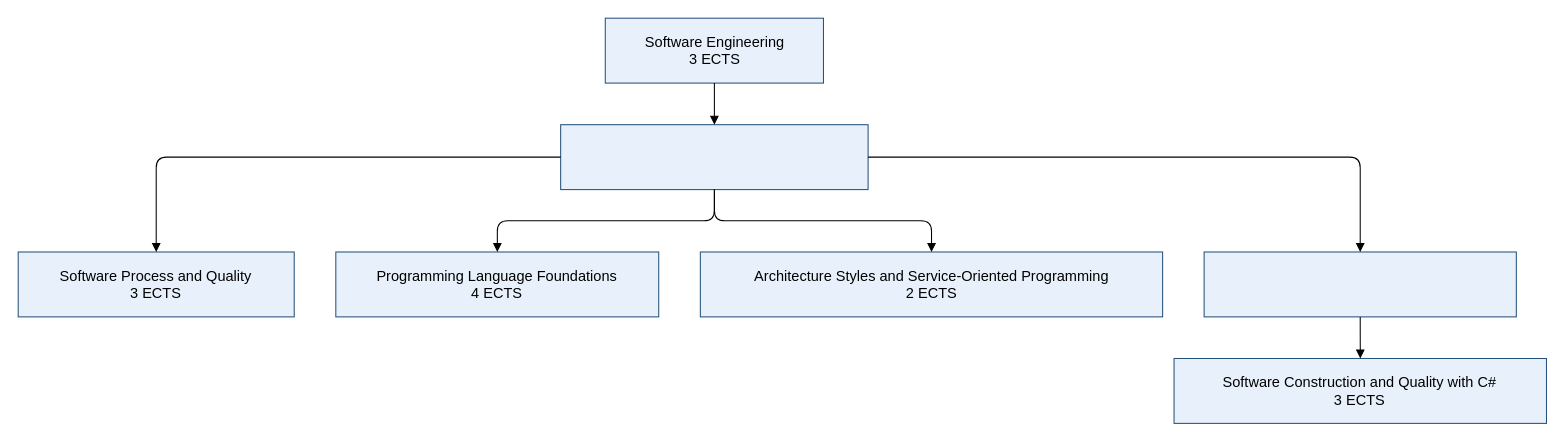
Some shapes in this 1565 by 442 pixel diagram are drawn without their labels. Each missing label, with the centre of its shape:
"Software Design and Architecture 3 ECTS" goes at [714,157].
"UML and Object-Oriented Modeling 3 ECTS" goes at [1359,284].
